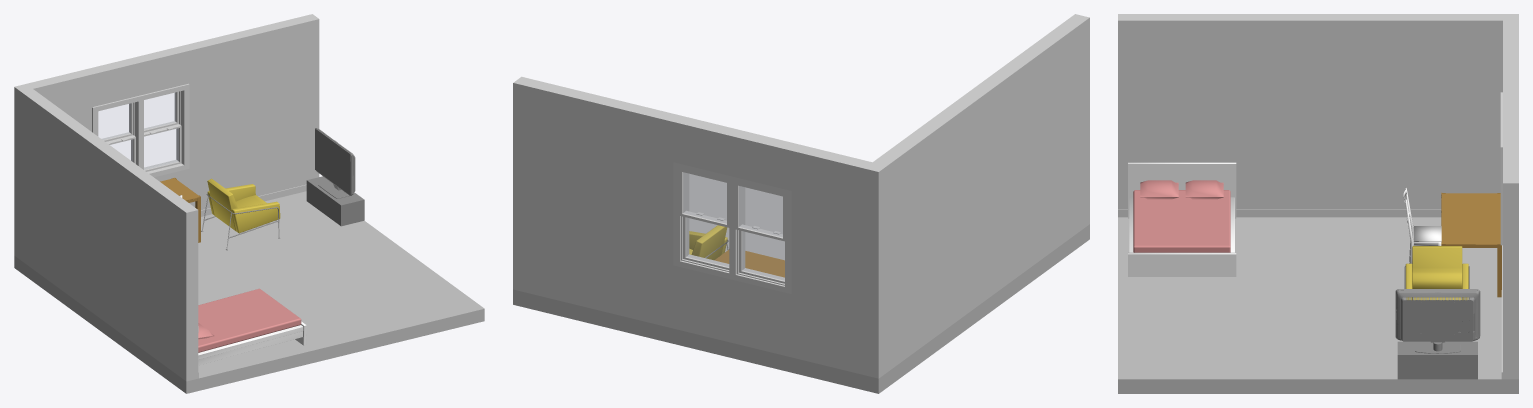
Rendered from L16_W16_furniture3_daylight2.glb.
3 views of the same model, side by side, from view 1: azimuth 30°, elevation 25°; view 2: azimuth 150°, elevation 25°; view 3: azimuth 270°, elevation 25° (orthographic). The views are drawn at different scales.
Bounding box in the file's own units: 200 × 116 × 200.
